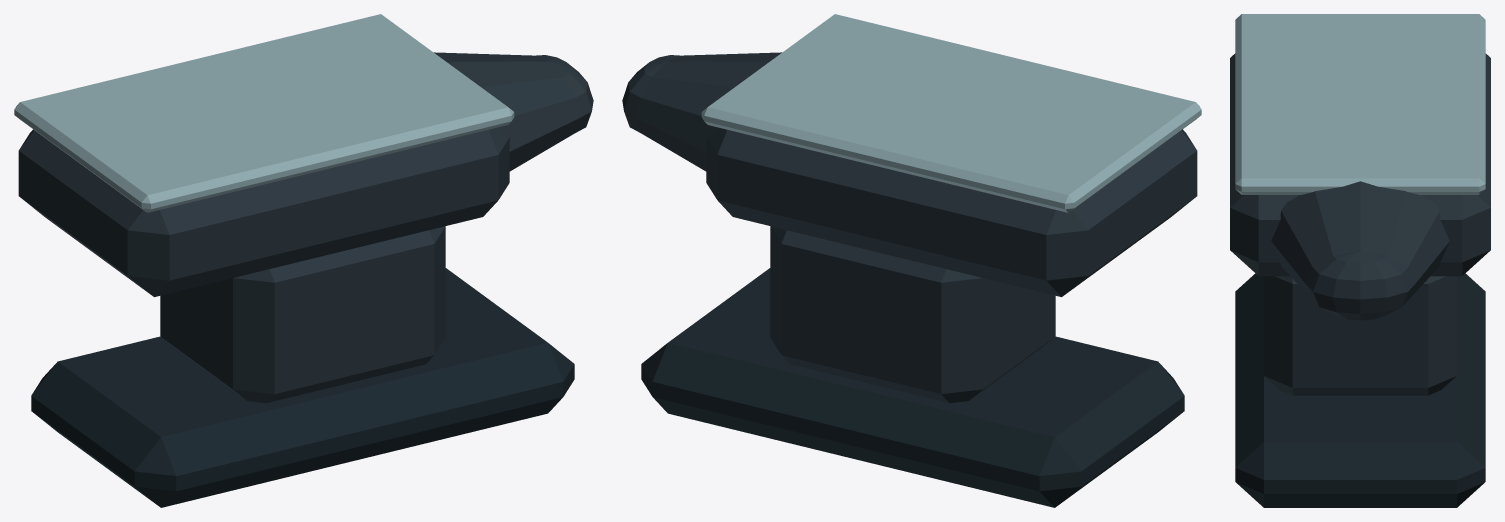
Rendered from anvil.glb.
The picture shows the model from 3 angles, left to right: view 1: azimuth 30°, elevation 25°; view 2: azimuth 150°, elevation 25°; view 3: azimuth 270°, elevation 25°; orthographic projection. The views are drawn at different scales.
Parts seen in each view (by area): view 1: Anvil / broad foot, Anvil / polished top, Anvil / face slab, Anvil / tapered waist, Anvil / tapered horn, Anvil / horn tip; view 2: Anvil / broad foot, Anvil / polished top, Anvil / face slab, Anvil / tapered waist, Anvil / tapered horn, Anvil / horn tip; view 3: Anvil / polished top, Anvil / broad foot, Anvil / tapered waist, Anvil / tapered horn, Anvil / face slab, Anvil / horn tip.
Boxes of the visible parts, left/top/right/bottom form: Anvil / broad foot: left=31, top=268, right=574, bottom=507; Anvil / polished top: left=14, top=14, right=514, bottom=212; Anvil / face slab: left=18, top=127, right=509, bottom=297; Anvil / tapered waist: left=160, top=226, right=445, bottom=403; Anvil / tapered horn: left=434, top=52, right=578, bottom=171; Anvil / horn tip: left=536, top=55, right=593, bottom=132; Anvil / broad foot: left=641, top=268, right=1184, bottom=507; Anvil / polished top: left=701, top=14, right=1201, bottom=212; Anvil / face slab: left=706, top=127, right=1197, bottom=297; Anvil / tapered waist: left=770, top=226, right=1055, bottom=403; Anvil / tapered horn: left=637, top=52, right=781, bottom=171; Anvil / horn tip: left=622, top=55, right=679, bottom=132; Anvil / polished top: left=1235, top=14, right=1485, bottom=194; Anvil / broad foot: left=1235, top=273, right=1485, bottom=507; Anvil / tapered waist: left=1264, top=276, right=1456, bottom=395; Anvil / tapered horn: left=1271, top=181, right=1449, bottom=299; Anvil / face slab: left=1230, top=53, right=1490, bottom=276; Anvil / horn tip: left=1306, top=251, right=1414, bottom=320.
Size of the model in its own units: 1.05 by 0.6475 by 0.5.
